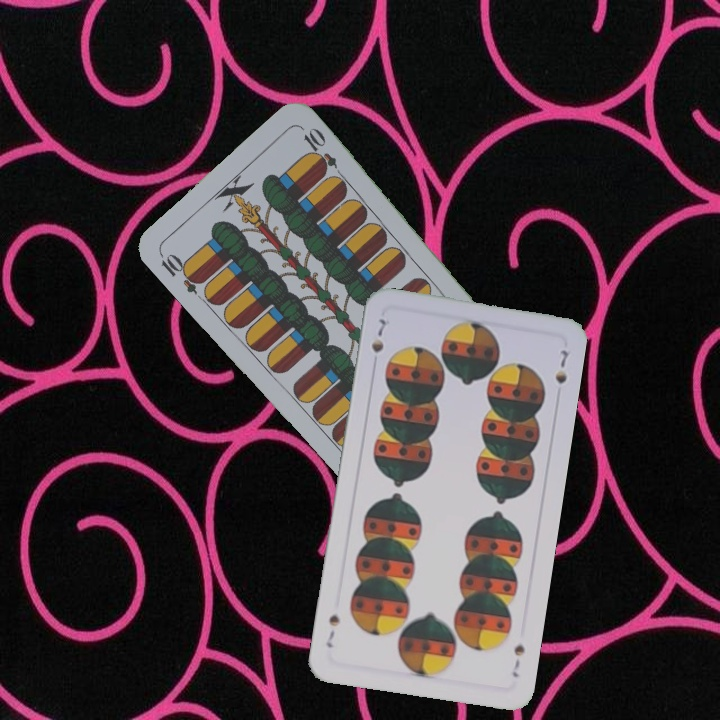E10: (155, 248, 206, 296)
S7: (367, 314, 388, 356), (508, 640, 527, 680)
